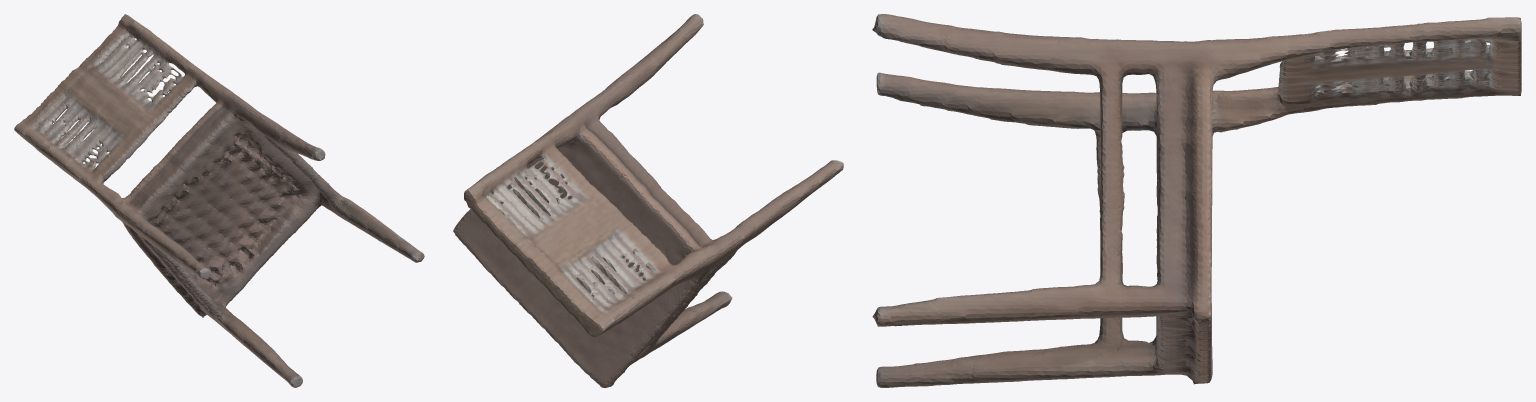
File: demo1.glb
3 views of the same model, side by side, from view 1: azimuth 30°, elevation 25°; view 2: azimuth 150°, elevation 25°; view 3: azimuth 270°, elevation 25° (orthographic). The views are drawn at different scales.
Parts seen in each view (by area): view 1: Screenshot_2026-10-07_192722.obj; view 2: Screenshot_2026-10-07_192722.obj; view 3: Screenshot_2026-10-07_192722.obj.
Boxes of the visible parts, x1,y1,x2,y2 form: Screenshot_2026-10-07_192722.obj: [14, 14, 424, 387]; Screenshot_2026-10-07_192722.obj: [453, 14, 843, 387]; Screenshot_2026-10-07_192722.obj: [872, 14, 1521, 387].
Size of the model in its own units: 1.34 by 1.32 by 1.99.
